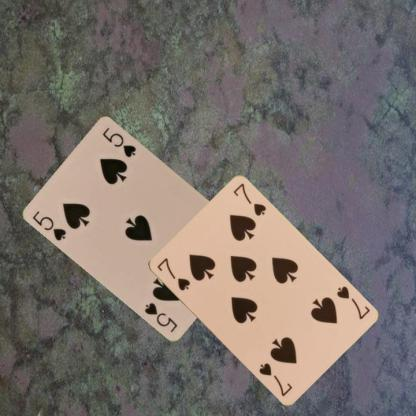5s: (30, 208, 68, 242)
7s: (333, 283, 371, 321), (154, 255, 191, 292)
